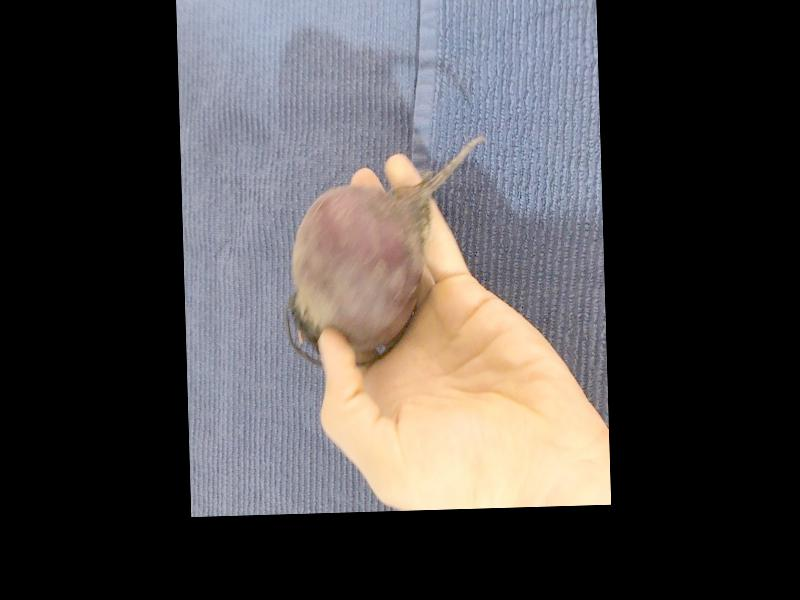Beet: (279, 134, 492, 367)
